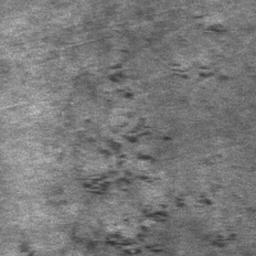Rolled in scale: (49, 11, 256, 256), (170, 55, 256, 101), (42, 21, 92, 61), (192, 8, 227, 34), (211, 226, 235, 249), (0, 64, 26, 84)
